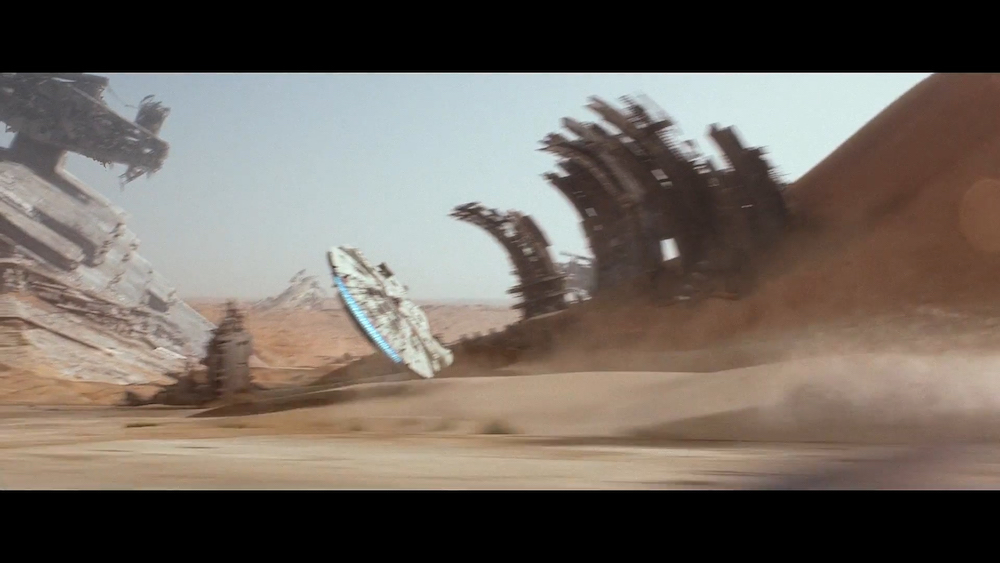Millennium Falcon: (324, 242, 458, 383)
